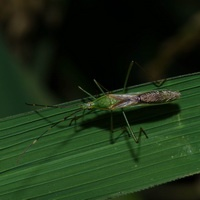insect: (16, 79, 180, 165)
